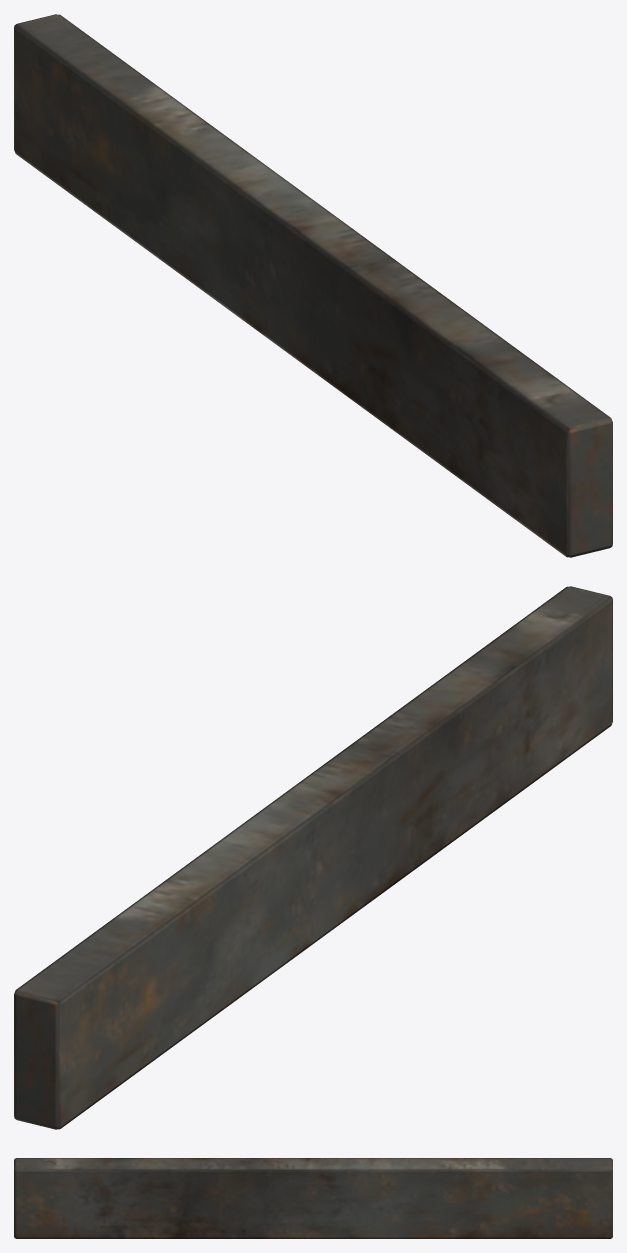
File: railing_002.glb
The picture shows the model from 3 angles, top to bottom: view 1: azimuth 30°, elevation 25°; view 2: azimuth 150°, elevation 25°; view 3: azimuth 270°, elevation 25°; orthographic projection. The views are drawn at different scales.
Parts seen in each view (by area): view 1: Building_12_064; view 2: Building_12_064; view 3: Building_12_064.
Part boxes in pixels (<box>): Building_12_064: <box>14,14,612,557</box>; Building_12_064: <box>14,586,612,1129</box>; Building_12_064: <box>14,1158,612,1238</box>.
Size of the model in its own units: 0.0486 by 0.1293 by 1.
1 material, 1 textured.
